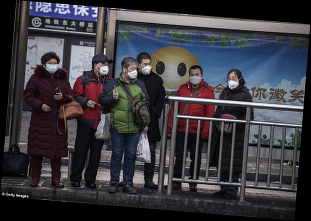with_mask: (226, 75, 240, 91), (44, 60, 59, 74), (189, 71, 203, 86), (126, 65, 139, 81), (97, 62, 110, 76), (140, 60, 152, 75)
